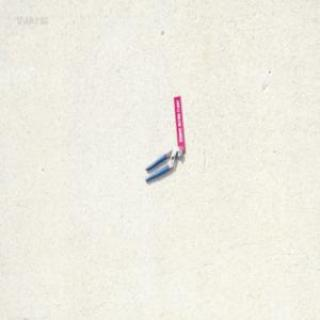LuggageTagtrack_idkeyframe: (172, 94, 185, 151)
Pliertrack_idkeyframe: (143, 144, 182, 181)
